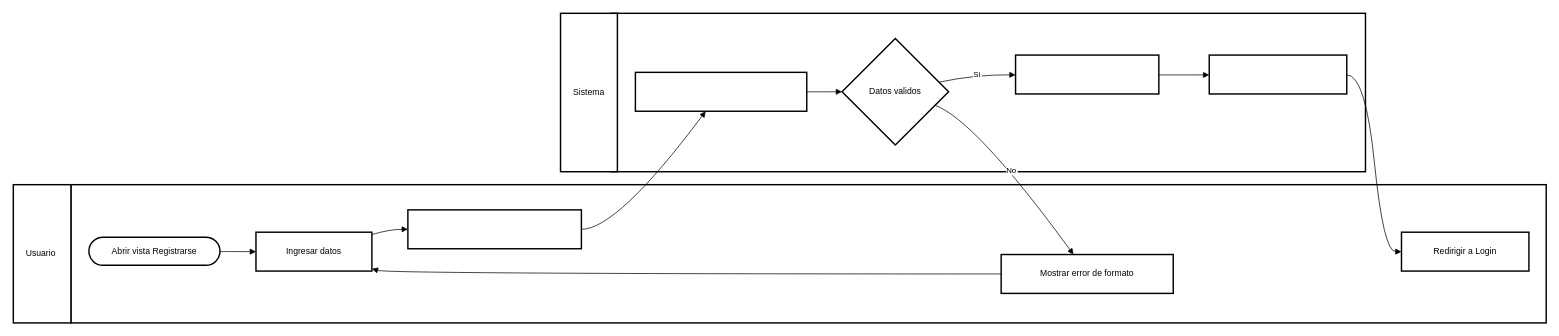
Some shapes in this 1559 by 336 pixel diagram are drawn without their labels. Each missing label, with the centre of its shape:
Confirmar registro: the point at 1277,74
Crear cuenta en BD: the point at 1086,74
Presionar boton Registrar: the point at 494,229
Validar formato de datos: the point at 720,91
